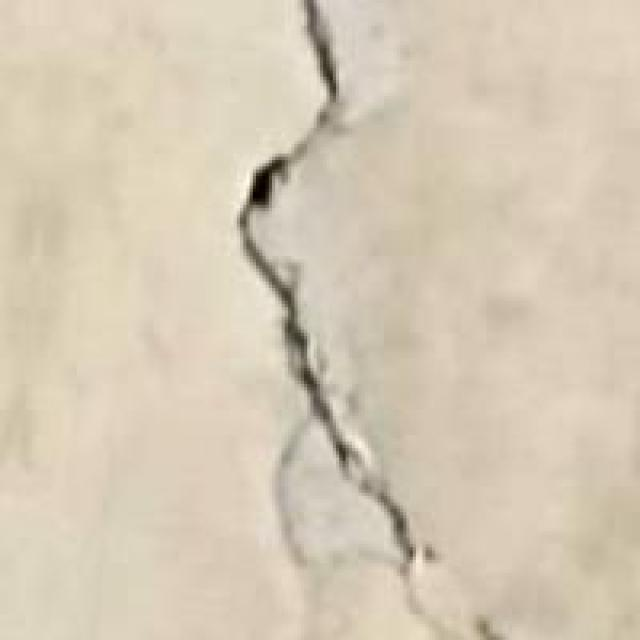Crack: (224, 0, 464, 637)
